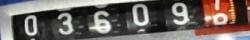digits: (170, 2, 190, 24), (56, 12, 74, 35), (94, 10, 111, 34), (131, 3, 149, 25), (23, 14, 38, 36), (213, 0, 220, 11)
